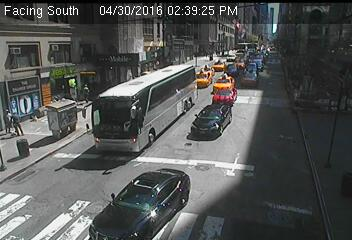neg: (146, 150, 183, 200), (258, 73, 292, 118), (25, 132, 57, 174), (155, 65, 183, 102), (94, 183, 121, 220), (94, 48, 119, 82), (290, 172, 314, 203), (49, 98, 72, 129), (89, 132, 112, 162), (23, 44, 44, 72), (259, 28, 280, 56), (221, 84, 241, 111), (233, 157, 253, 184), (310, 46, 330, 73), (216, 31, 236, 58), (198, 193, 218, 220), (48, 193, 68, 220), (305, 127, 324, 152)
pos: (1, 102, 19, 127), (9, 110, 26, 133), (77, 82, 93, 103)
